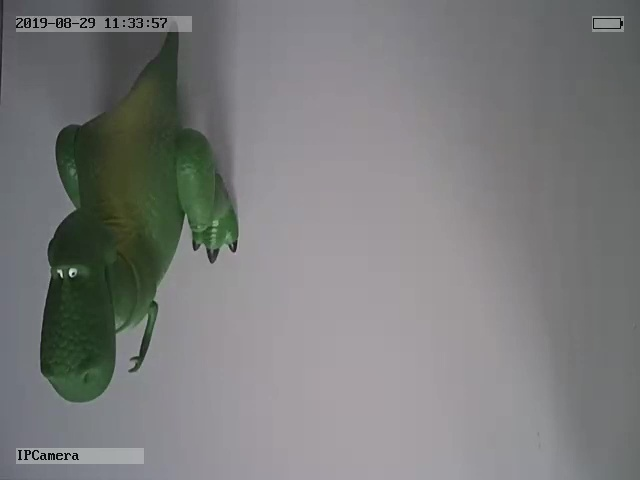rex: (39, 33, 241, 405)
